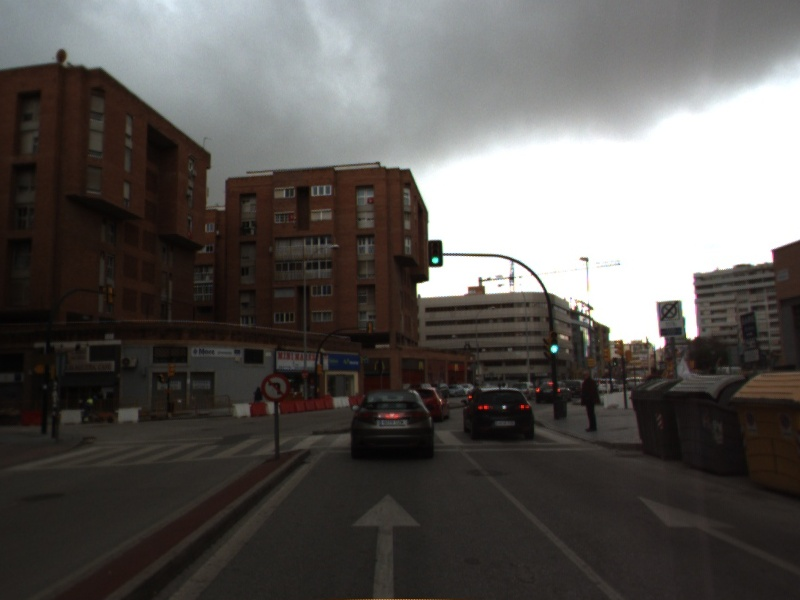STRAIGHT: (633, 493, 800, 576), (347, 489, 424, 600)
